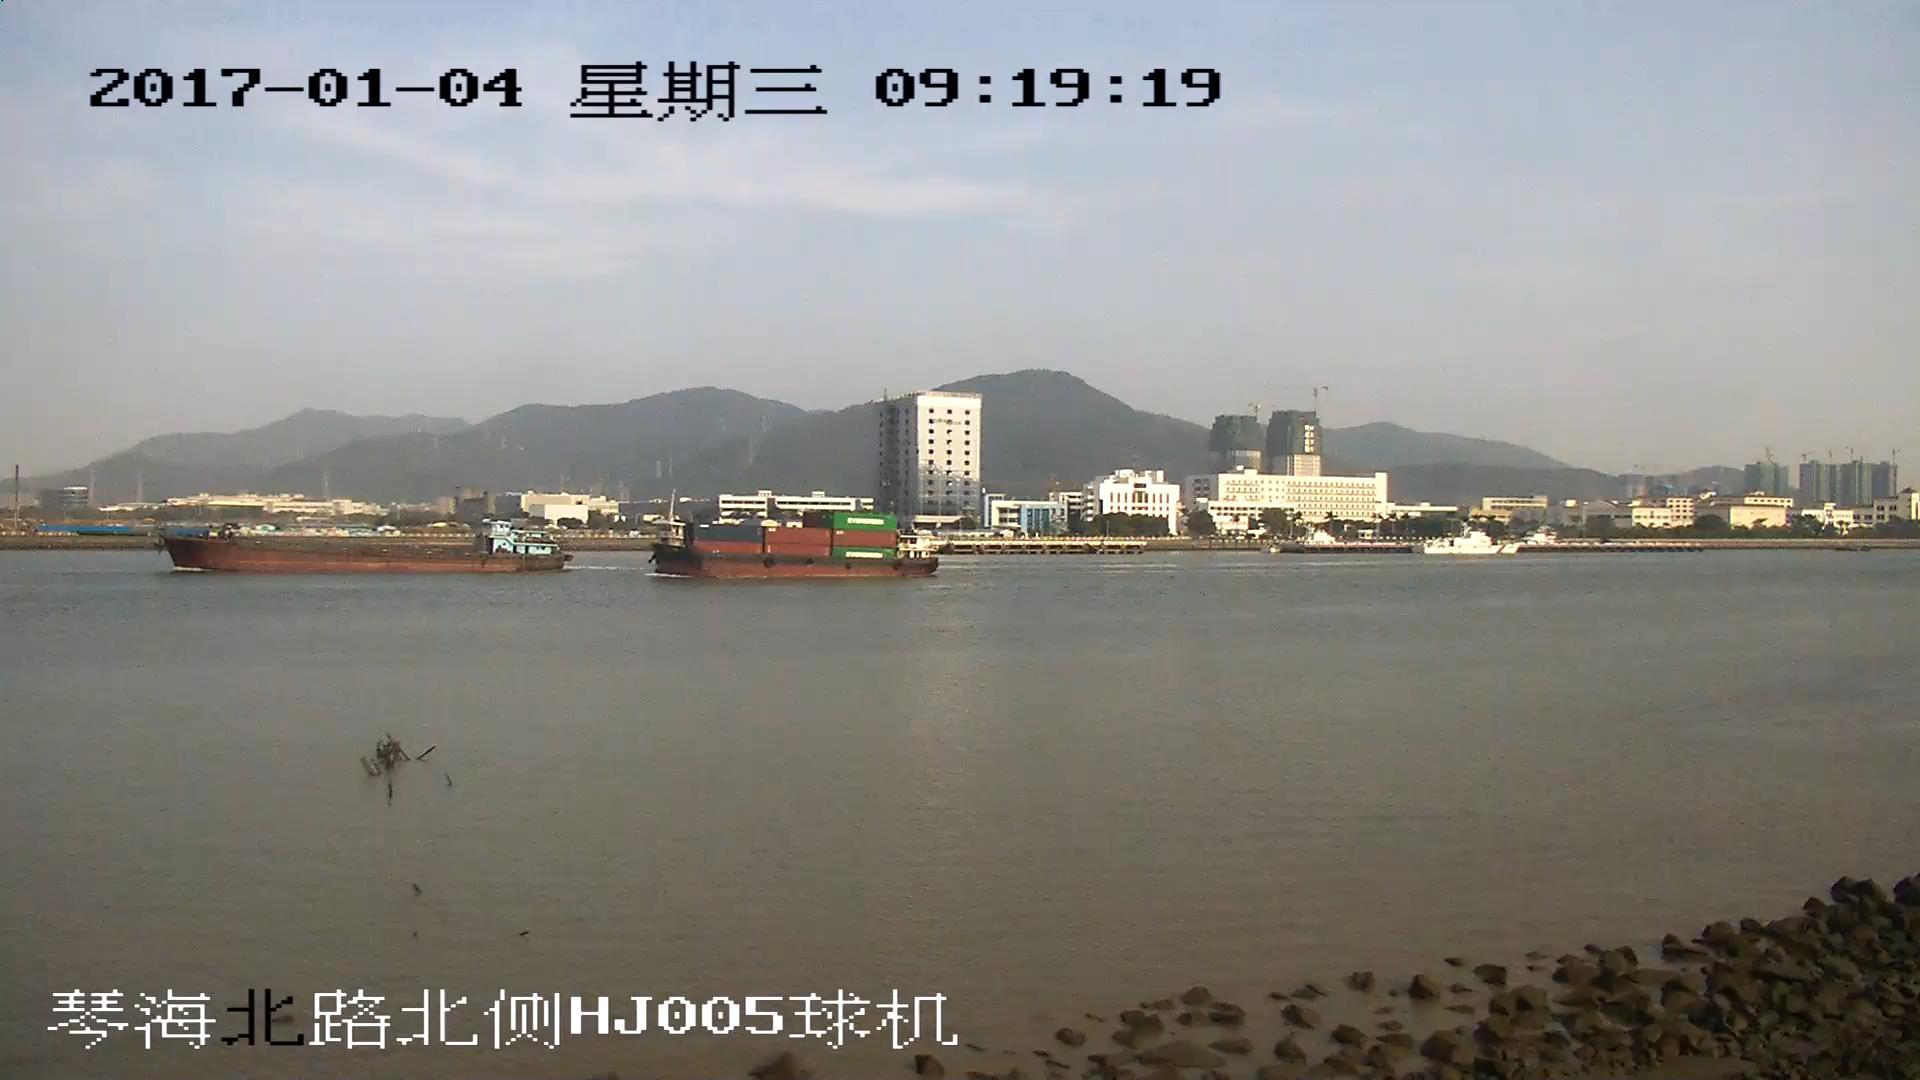Ship: (162, 518, 574, 574), (651, 509, 943, 580)
